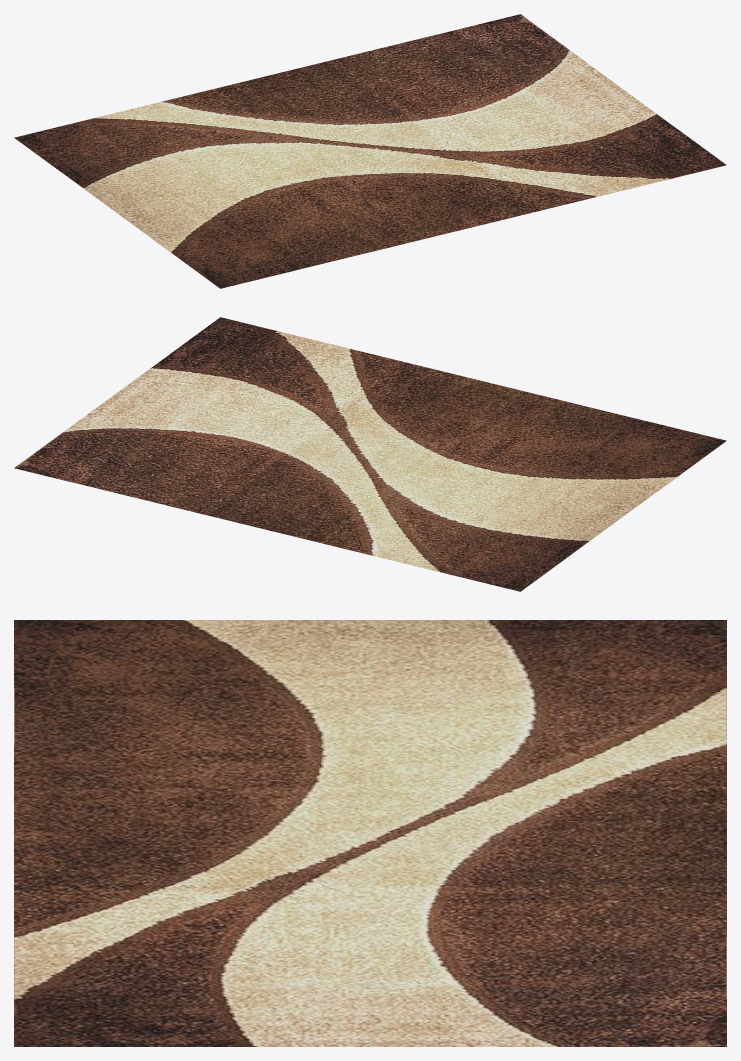
Rendered from Carpet.FBX.
The picture shows the model from 3 angles, top to bottom: view 1: azimuth 30°, elevation 25°; view 2: azimuth 150°, elevation 25°; view 3: azimuth 270°, elevation 25°; orthographic projection. The views are drawn at different scales.
Visible parts, largest first — view 1: Plane001; view 2: Plane001; view 3: Plane001.
Boxes of the visible parts, x1,y1,x2,y2 form: Plane001: (14,14,726,288); Plane001: (14,317,726,591); Plane001: (14,620,726,1046).
Size of the model in its own units: 66.93 by 2.66e-15 by 47.24.
1 material, 1 textured.
